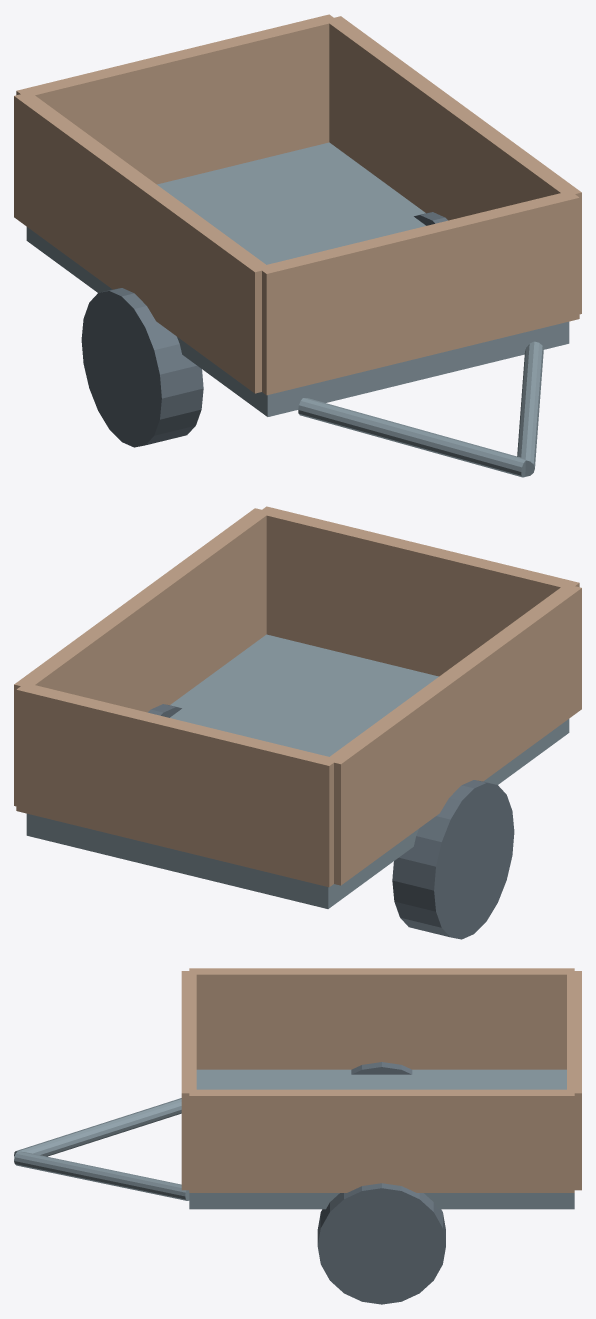
Rendered from cargo_trailer.glb.
3 views of the same model, one above another, from view 1: azimuth 30°, elevation 25°; view 2: azimuth 150°, elevation 25°; view 3: azimuth 270°, elevation 25° (orthographic). The views are drawn at different scales.
Parts seen in each view (by area): view 1: cargo_trailer_005, cargo_trailer_001, cargo_trailer_006, cargo_trailer_000, cargo_trailer_003, cargo_trailer_002, cargo_trailer_007, cargo_trailer_008; view 2: cargo_trailer_006, cargo_trailer_001, cargo_trailer_005, cargo_trailer_000, cargo_trailer_003, cargo_trailer_002; view 3: cargo_trailer_003, cargo_trailer_001, cargo_trailer_004, cargo_trailer_000, cargo_trailer_005, cargo_trailer_008, cargo_trailer_006, cargo_trailer_007, cargo_trailer_002.
Part boxes in pixels (x1,y1,x2,y2): cargo_trailer_005: [257, 191, 579, 395]; cargo_trailer_001: [14, 92, 270, 393]; cargo_trailer_006: [16, 14, 337, 184]; cargo_trailer_000: [26, 142, 569, 416]; cargo_trailer_003: [325, 16, 581, 314]; cargo_trailer_002: [81, 288, 203, 447]; cargo_trailer_007: [298, 398, 525, 477]; cargo_trailer_008: [517, 341, 543, 476]; cargo_trailer_006: [16, 683, 333, 887]; cargo_trailer_001: [325, 584, 581, 885]; cargo_trailer_005: [258, 506, 579, 676]; cargo_trailer_000: [26, 634, 569, 908]; cargo_trailer_003: [14, 508, 270, 806]; cargo_trailer_002: [392, 780, 514, 939]; cargo_trailer_003: [189, 1089, 574, 1192]; cargo_trailer_001: [189, 968, 574, 1069]; cargo_trailer_004: [317, 1183, 445, 1304]; cargo_trailer_000: [189, 1069, 574, 1209]; cargo_trailer_005: [181, 971, 196, 1190]; cargo_trailer_008: [14, 1151, 189, 1200]; cargo_trailer_006: [567, 971, 581, 1190]; cargo_trailer_007: [14, 1098, 181, 1156]; cargo_trailer_002: [351, 1062, 412, 1074].
Bounding box in the file's own units: 1.52 × 1.05 × 2.65.
